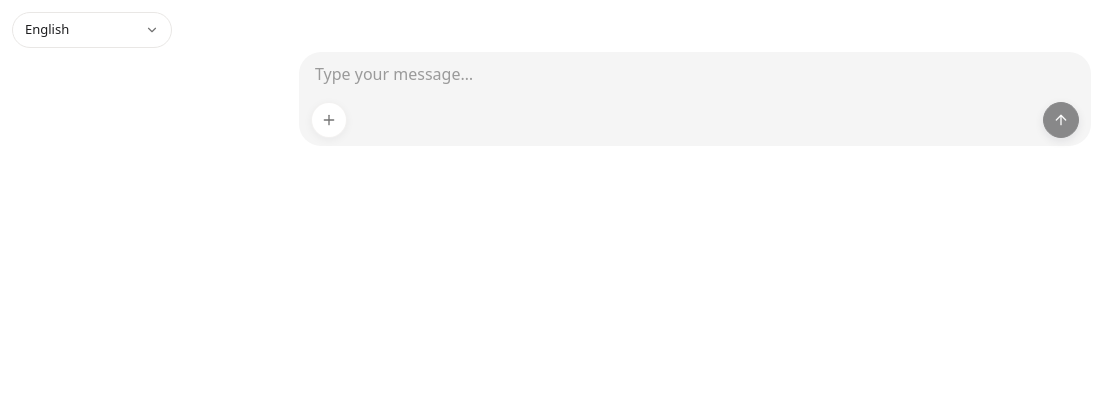
Test: webui i18n › switches UI copy and document locale through the language switcher
Check: the text box with placeholder "Type your message…" is shown, box [299,52,1091,102]
Step 1. Click the dropdown named "Change language" → (92, 30), box [12,12,172,48]
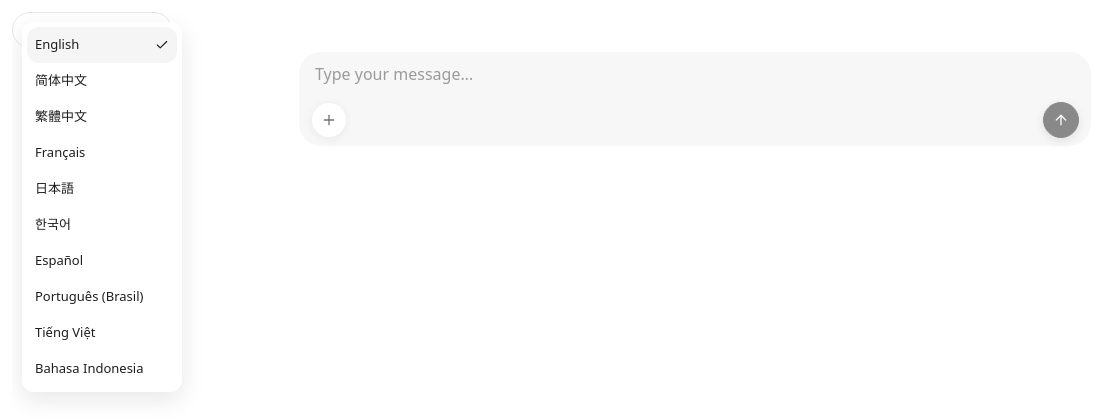
Step 2. Click the option "简体中文" → (61, 80), box [35,71,87,89]
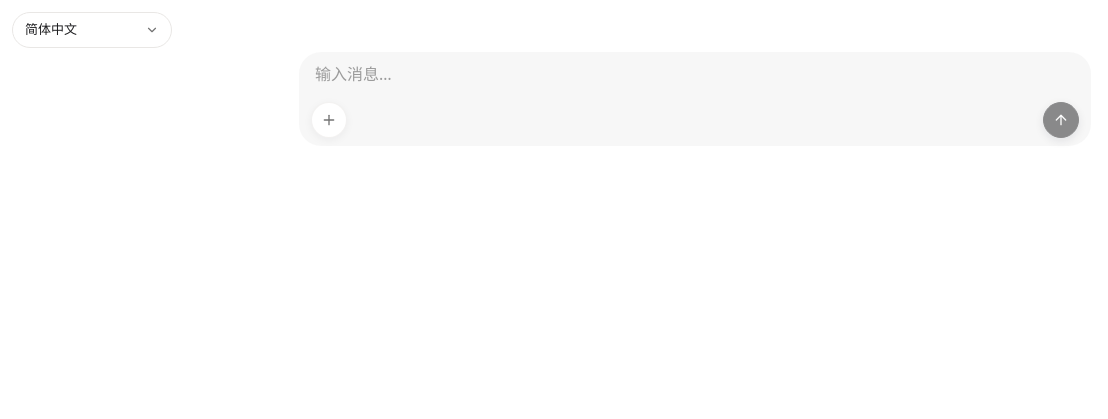
Check: the text box with placeholder "输入消息…" is shown, box [299,52,1091,102]
